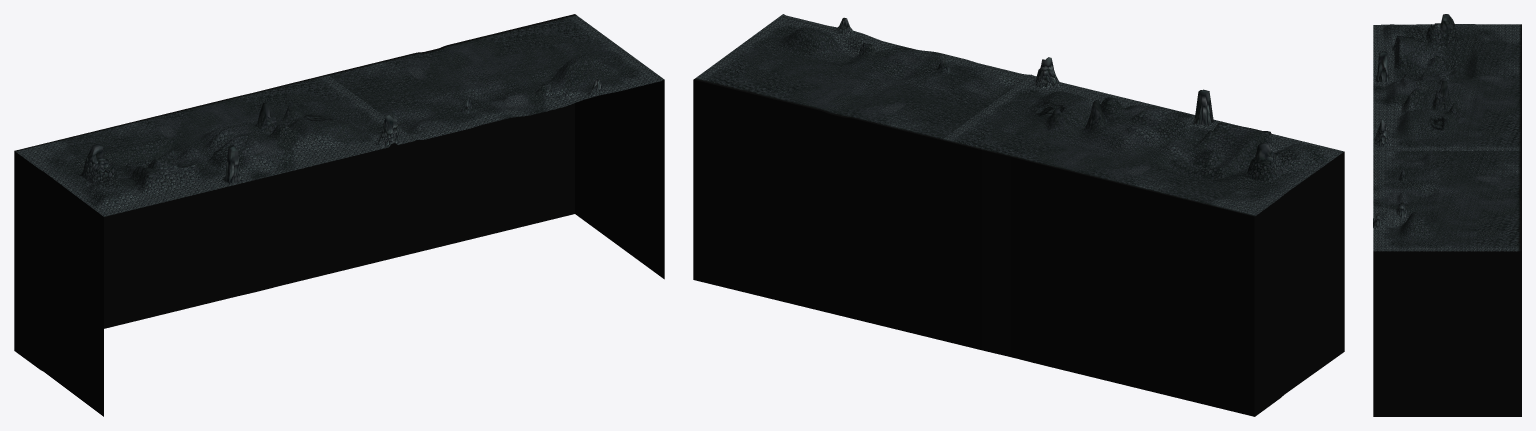
The picture shows the model from 3 angles, left to right: view 1: azimuth 30°, elevation 25°; view 2: azimuth 150°, elevation 25°; view 3: azimuth 270°, elevation 25°; orthographic projection. The views are drawn at different scales.
Parts seen in each view (by area): view 1: ground_base1; view 2: ground_base1; view 3: ground_base1.
Part boxes in pixels (x1,y1,x2,y2): ground_base1: (14,14,664,416); ground_base1: (693,14,1344,416); ground_base1: (1373,14,1521,416).
Bounding box in the file's own units: 5826 × 2307 × 1617.
